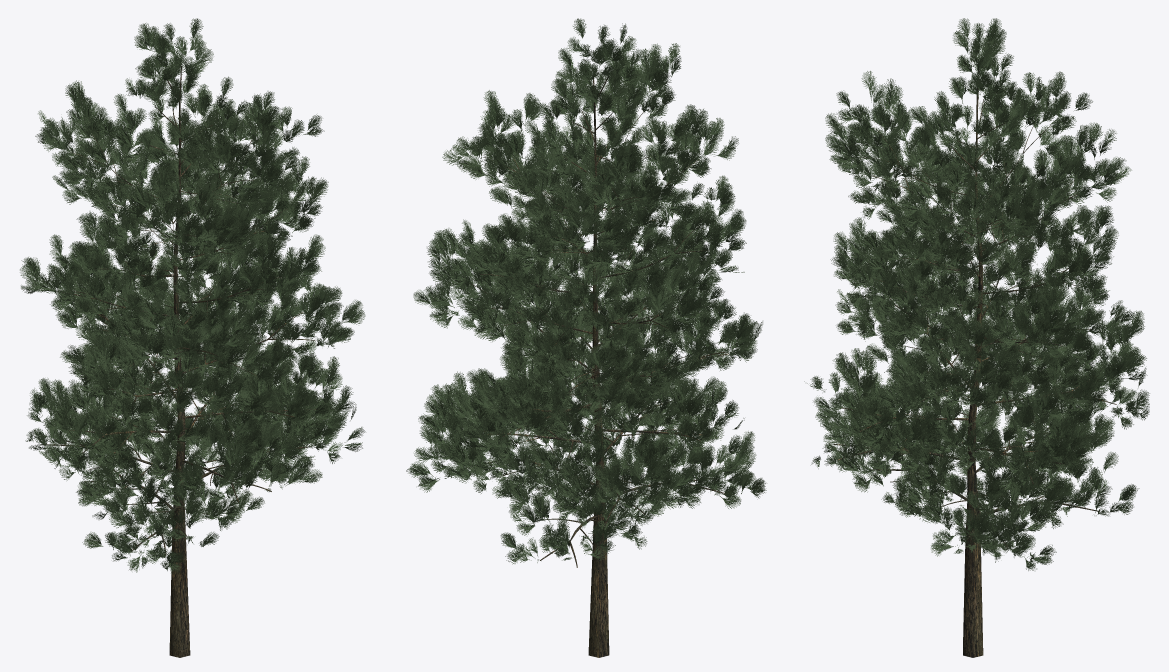
File: shu1.FBX
3 renders of one model, left to right at view 1: azimuth 30°, elevation 25°; view 2: azimuth 150°, elevation 25°; view 3: azimuth 270°, elevation 25°, orthographic.
Parts seen in each view (by area): view 1: shu1; view 2: shu1; view 3: shu1.
Boxes of the visible parts, box(x1,y1,x2,y2) form: shu1: box(20, 18, 365, 657); shu1: box(406, 18, 766, 657); shu1: box(804, 18, 1149, 657).
Bounding box in the file's own units: 478 × 915 × 467.
Materials: 2 (2 with a texture image).
